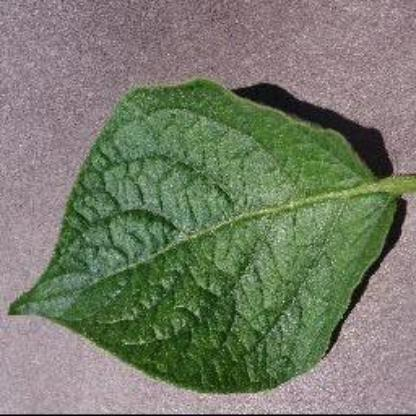Healthy-plant: (12, 73, 414, 403)
